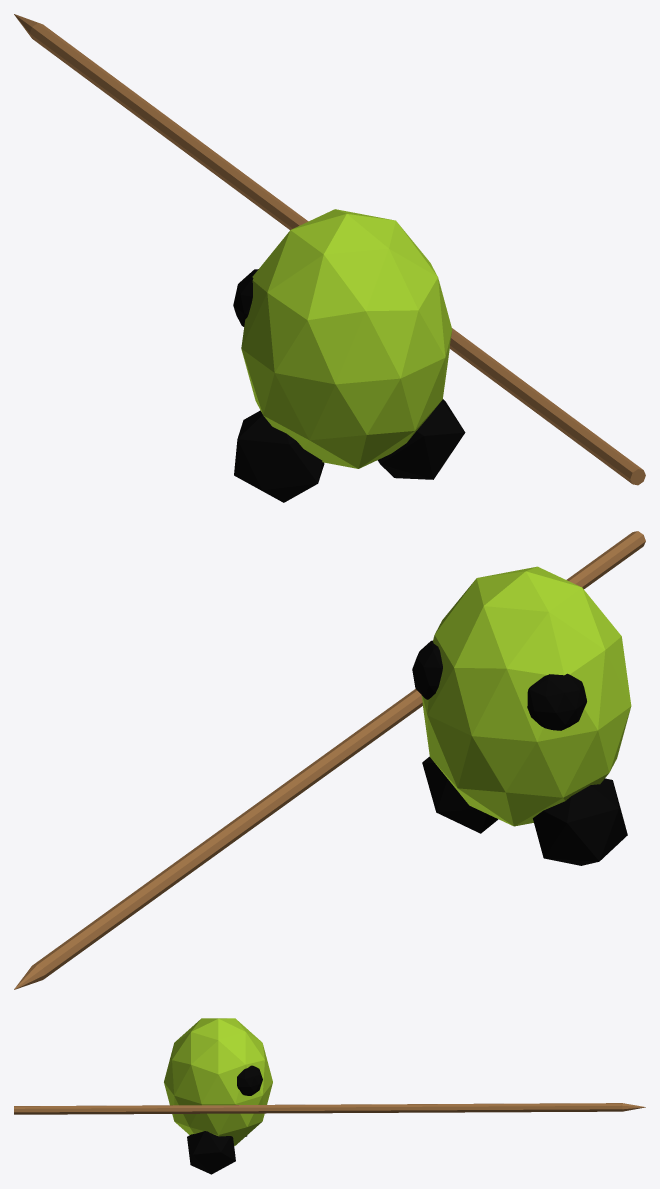
Rendered from walk.f0004.glb.
The picture shows the model from 3 angles, top to bottom: view 1: azimuth 30°, elevation 25°; view 2: azimuth 150°, elevation 25°; view 3: azimuth 270°, elevation 25°; orthographic projection. The views are drawn at different scales.
Parts seen in each view (by area): view 1: Body.001; view 2: Body.001; view 3: Body.001.
Part boxes in pixels (x1,y1,x2,y2): Body.001: (14,14,645,502); Body.001: (14,531,645,989); Body.001: (14,1018,645,1174).
Size of the model in its own units: 2.17 by 2.84 by 11.56.
1 material, 1 textured.
